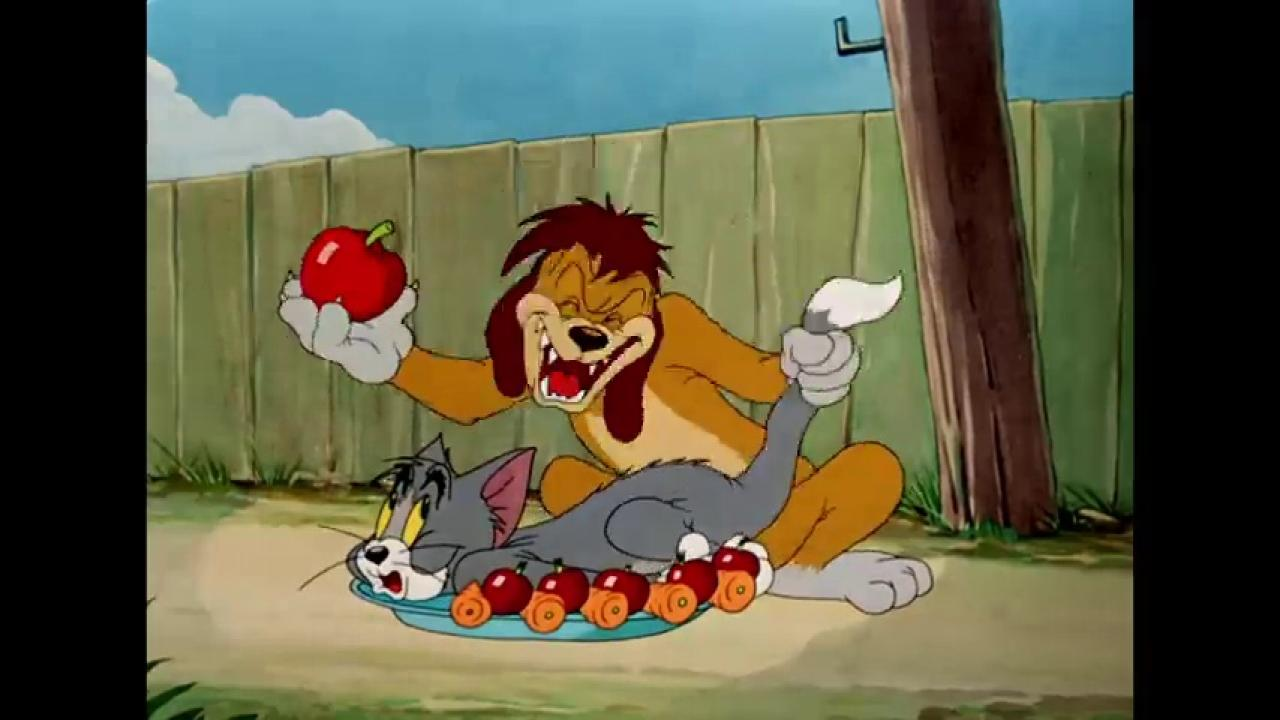Tom: (345, 269, 905, 606)
